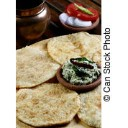poori: (16, 85, 80, 128), (16, 47, 58, 85), (49, 34, 101, 62), (77, 88, 101, 128)
